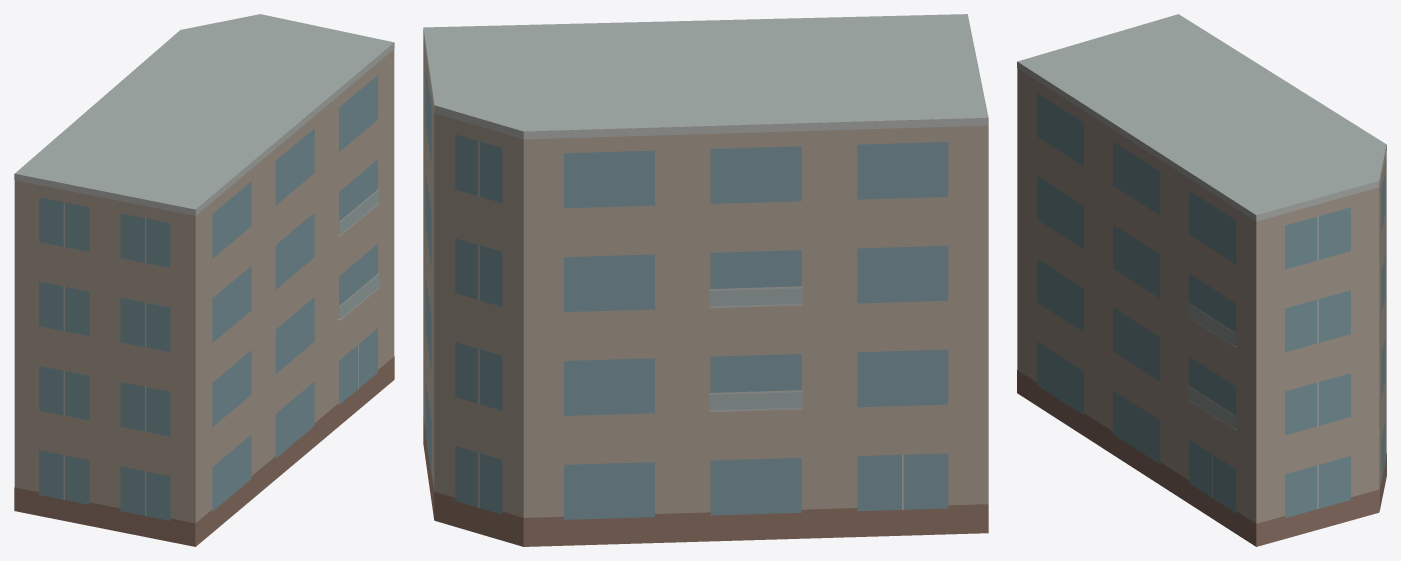
Rendered from survey-upis-32811892.glb.
3 views of the same model, side by side, from view 1: azimuth 30°, elevation 25°; view 2: azimuth 150°, elevation 25°; view 3: azimuth 270°, elevation 25° (orthographic). The views are drawn at different scales.
Parts seen in each view (by area): view 1: survey-upis-32811892.tmp; view 2: survey-upis-32811892.tmp; view 3: survey-upis-32811892.tmp.
Boxes of the visible parts, <box> form: survey-upis-32811892.tmp: <box>14,14,394,546</box>; survey-upis-32811892.tmp: <box>423,14,988,546</box>; survey-upis-32811892.tmp: <box>1017,14,1386,546</box>.
Bounding box in the file's own units: 16.67 × 12.8 × 12.94.
